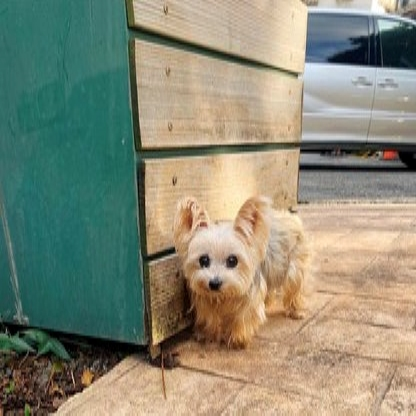yorkshire: (172, 191, 313, 349)
